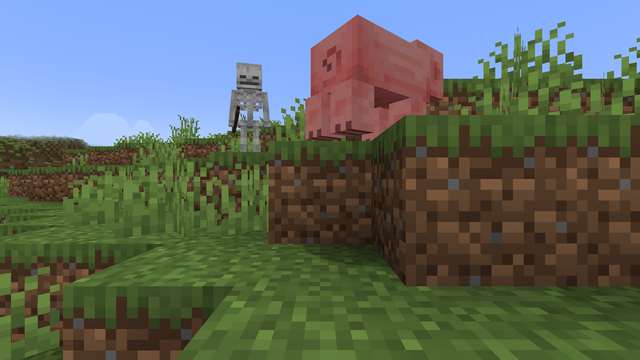cochons: (324, 19, 438, 143)
squelettes: (231, 62, 266, 140)
